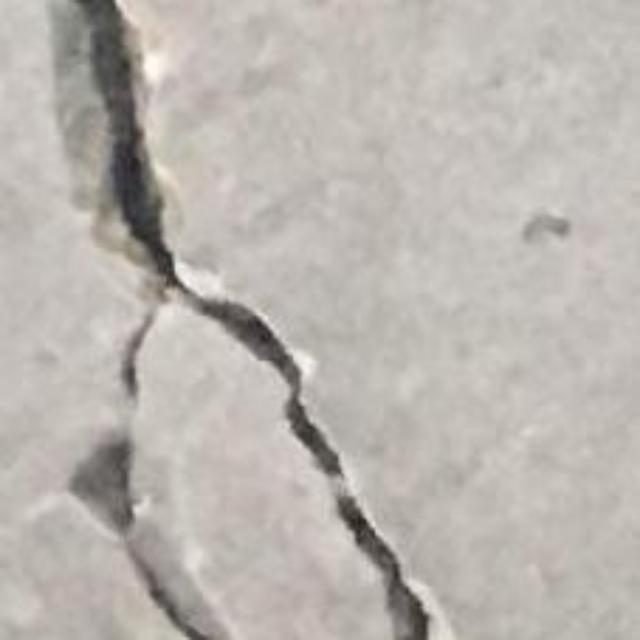crack: (71, 0, 434, 639)
